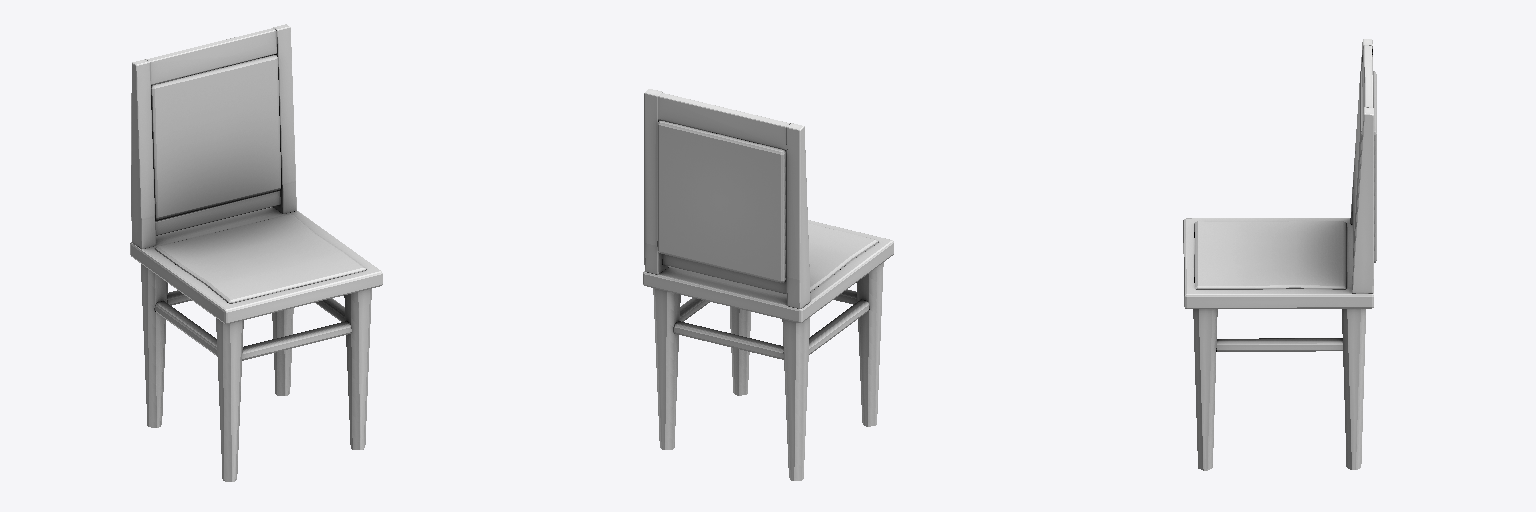
3 renders of one model, left to right at view 1: azimuth 30°, elevation 25°; view 2: azimuth 150°, elevation 25°; view 3: azimuth 270°, elevation 25°, orthographic.
Visible parts, largest first — view 1: Cube.004_Cube.017; view 2: Cube.004_Cube.017; view 3: Cube.004_Cube.017.
Boxes of the visible parts, box(x1,y1,x2,y2) form: Cube.004_Cube.017: box(130, 24, 382, 481); Cube.004_Cube.017: box(643, 89, 893, 480); Cube.004_Cube.017: box(1183, 39, 1376, 470).
Bounding box in the file's own units: 2.18 × 4.68 × 2.29.
1 materials, 1 textured.